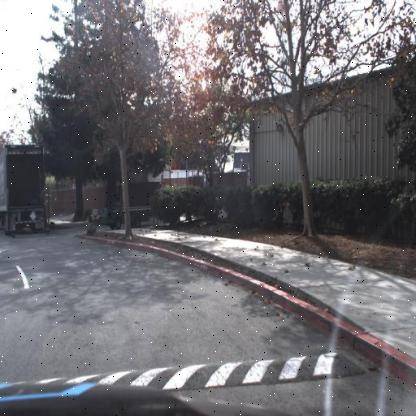truck: (0, 130, 56, 251), (98, 196, 168, 230)
